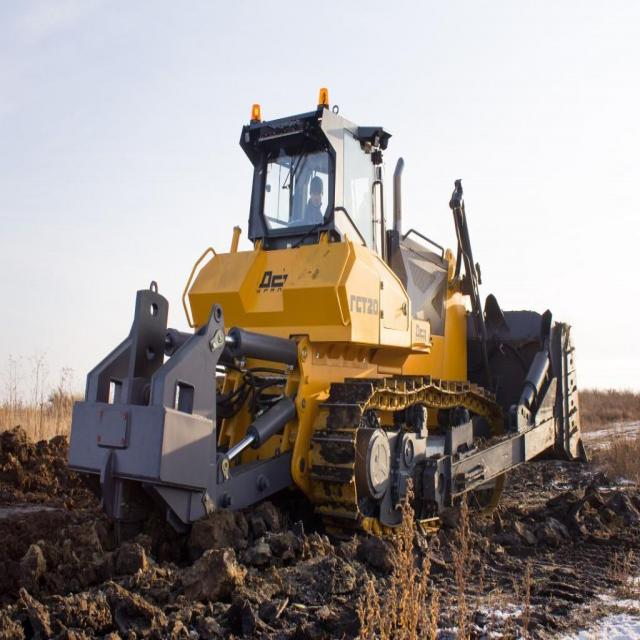Bulldozer: (75, 51, 602, 538)
